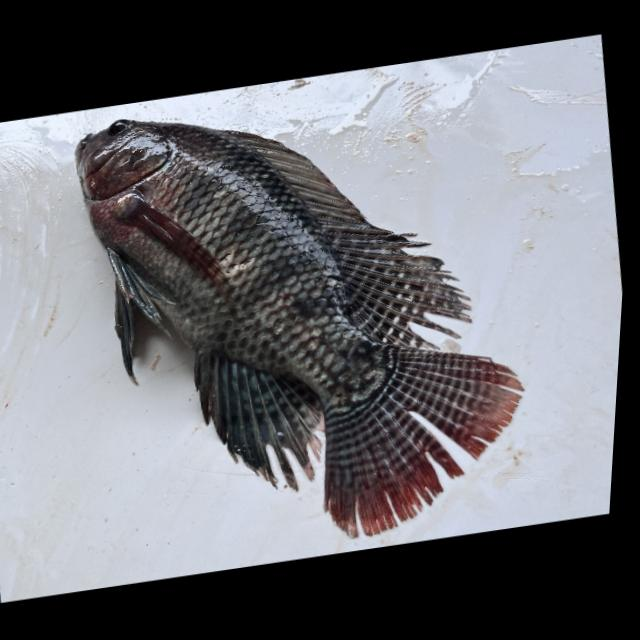Tilapia: (44, 61, 562, 573)
